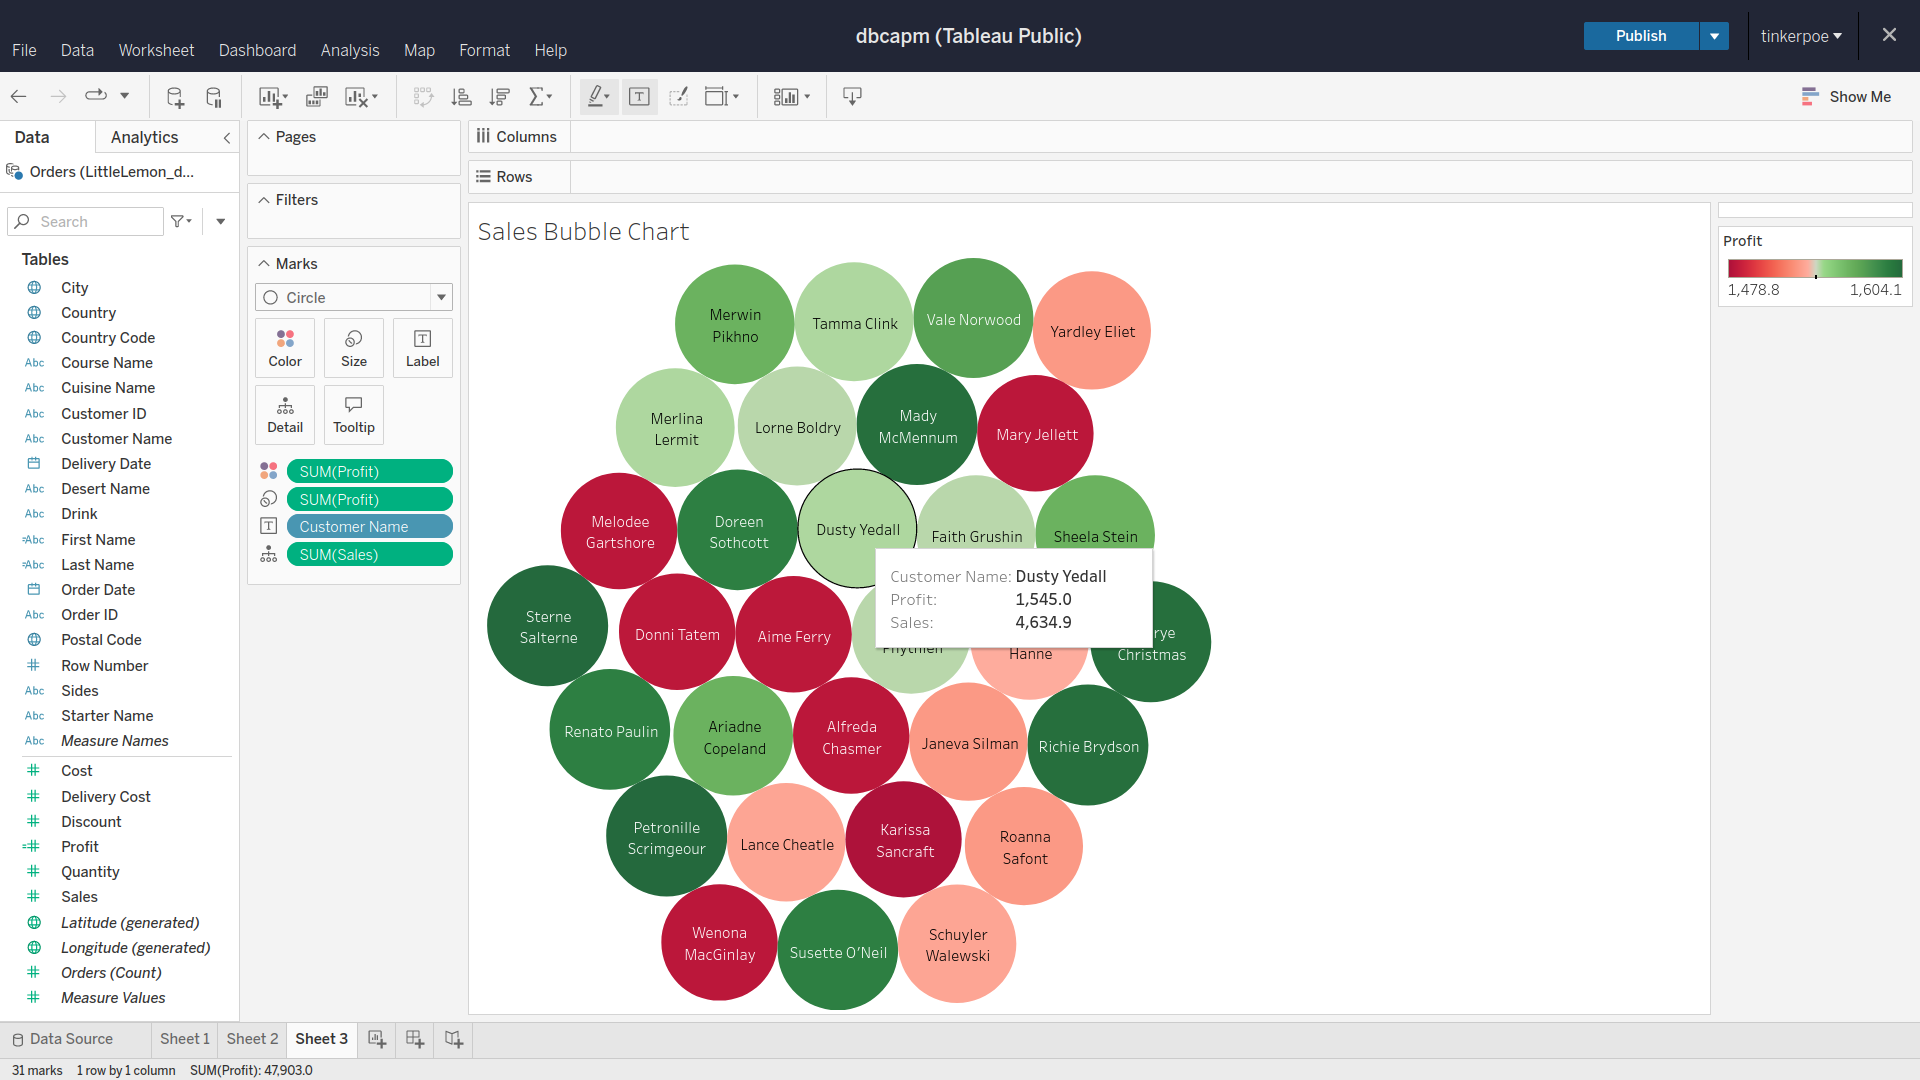

The page's visual inventory and layout, read from the dashboard file:
{"tool":"tableau","page":{"name":"Dashboard 1","canvas":[1000,800],"ordinal":0},"visuals":[{"type":"worksheet","title":"Sheet 1","mark":"Bar","rows":["Sales"],"cols":["Customer Name"],"box":[8,8,984,392]},{"type":"worksheet","title":"Sheet 3","mark":"Circle","box":[8,400,984,392]}]}

Visuals, with their boxes on the page's 1000x800 design canvas (x1, y1, x2, y2). These are canvas units, not pixel positions in the 1920x1080 screenshot, which may show the page scaled, cropped or inside an application window:
"Sheet 1" worksheet (Bar marks): <region>8, 8, 992, 400</region>
"Sheet 3" worksheet (Circle marks): <region>8, 400, 992, 792</region>
